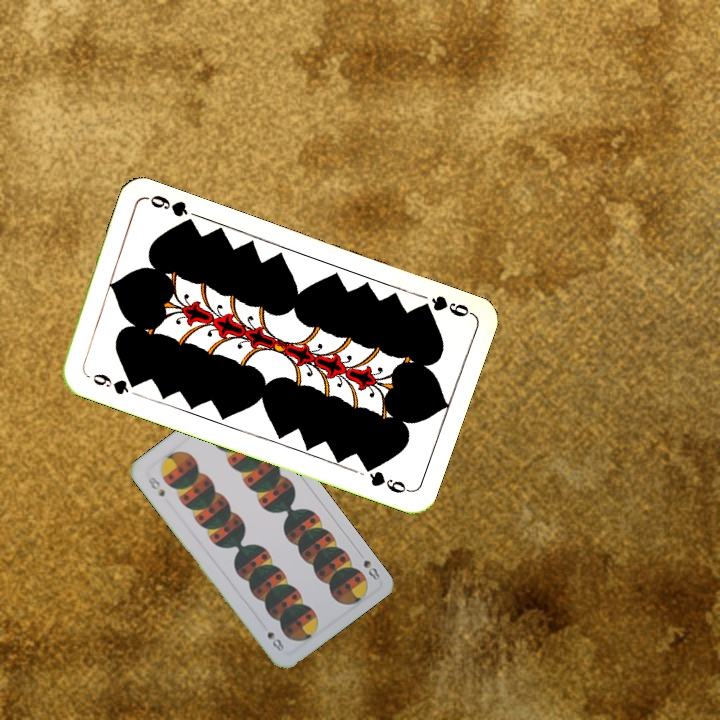G9: (413, 291, 474, 320), (89, 369, 141, 398)
S8: (353, 547, 383, 583), (144, 473, 168, 499)
